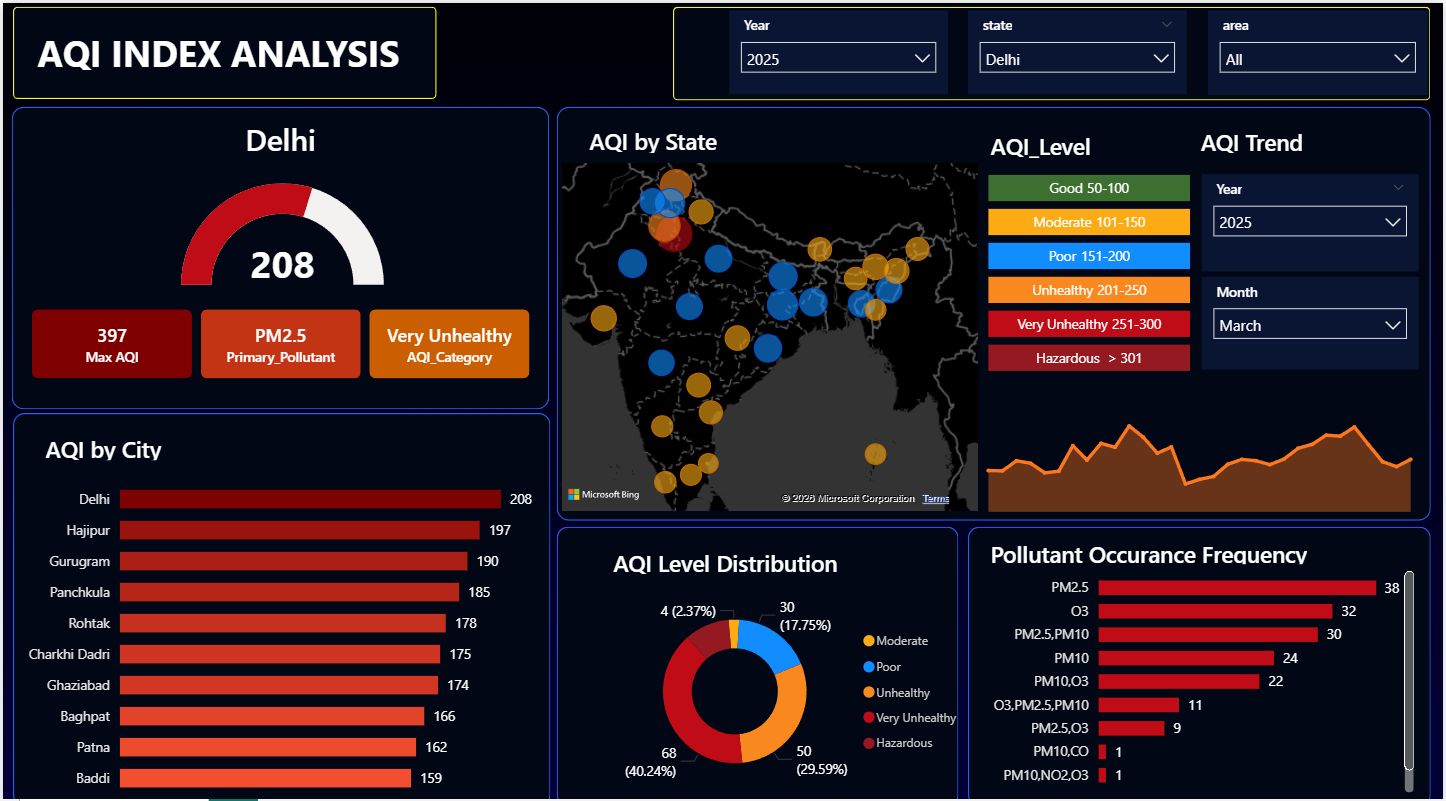

The page's visual inventory and layout, read from the dashboard file:
{"tool":"powerbi","page":{"name":"AQI INDEX PROJECT","canvas":[1280,720],"ordinal":0},"visuals":[{"type":"shape","box":[596,3.6,673.2,83.2],"z":0},{"type":"shape","box":[7.2,91.7,477.8,269],"z":1000},{"type":"slicer","fields":{"Values":["Calendar_Table.Year"]},"box":[645.3,7.2,194.2,74.8],"z":2000},{"type":"slicer","fields":{"Values":["day_wise_aqi_data.state"]},"box":[858.3,7.2,194.2,74.8],"z":3000},{"type":"slicer","fields":{"Values":["day_wise_aqi_data.area"]},"box":[1071.3,6.9,195,75],"z":4000},{"type":"gauge","fields":{"Y":["All_Measure.Avg_AQI"]},"box":[147.2,155.6,203.9,100.1],"z":5000},{"type":"cardVisual","fields":{"Data":["Max(day_wise_aqi_data.aqi_value)","All_Measure.Primary_Pollutant","All_Measure.AQI_Category_KPI"]},"box":[8.4,255.8,476.5,95.3],"z":6000},{"type":"cardVisual","fields":{"Data":["All_Measure.KPI-Title"]},"box":[181,90.5,131.5,59.1],"z":7000},{"type":"shape","box":[492.2,91.7,776.9,368],"z":8000},{"type":"map","fields":{"Category":["day_wise_aqi_data.state"],"Size":["All_Measure.Avg_AQI"]},"box":[492.2,137.5,378.8,318.5],"z":9000},{"type":"cardVisual","fields":{"Data":["All_Measure.State_Map_Title"]},"box":[492.2,92.9,182.2,57.9],"z":10000},{"type":"barChart","fields":{"Category":["day_wise_aqi_data.AQI_Category"],"Y":["All_Measure.Label"]},"box":[871.1,139.9,202.7,193],"z":11000},{"type":"cardVisual","fields":{"Data":["All_Measure.AQI_Level_Title"]},"box":[849.3,97.7,166.5,57.9],"z":12000},{"type":"areaChart","fields":{"Category":["Calendar_Table.Date.Variation.Date Hierarchy.Day"],"Y":["All_Measure.Avg_AQI"]},"box":[861.4,351.1,405.4,107.4],"z":13000},{"type":"slicer","fields":{"Values":["Calendar_Table.Date.Variation.Date Hierarchy.Year"]},"box":[1065,152.5,192.5,86.2],"z":14000},{"type":"slicer","fields":{"Values":["Calendar_Table.Date.Variation.Date Hierarchy.Month"]},"box":[1065,243.8,192.5,82.5],"z":15000},{"type":"cardVisual","fields":{"Data":["All_Measure.Title_For_Monthly_Charts"]},"box":[1035.1,92.3,165.6,59.4],"z":16000},{"type":"shape","box":[8.4,364.3,477.8,349.9],"z":17000},{"type":"barChart","fields":{"Category":["day_wise_aqi_data.area"],"Y":["All_Measure.Avg_AQI"]},"box":[10.9,409,466.9,305.2],"z":18000},{"type":"cardVisual","fields":{"Data":["All_Measure.Title_for_city"]},"box":[8.4,366.8,165.3,57.9],"z":19000},{"type":"shape","box":[492.2,465.7,357.1,248.5],"z":20000},{"type":"donutChart","fields":{"Category":["day_wise_aqi_data.AQI_Category"],"Y":["All_Measure.Count_Of_Rows"]},"box":[532.1,516.9,329.9,190.8],"z":21000},{"type":"cardVisual","fields":{"Data":["All_Measure.Donut_Title"]},"box":[513.1,462.6,269.2,69.5],"z":22000},{"type":"shape","box":[857.8,465.7,411.4,248.5],"z":23000},{"type":"clusteredBarChart","fields":{"Y":["All_Measure.Count_Of_Rows"],"Category":["day_wise_aqi_data.prominent_pollutants"]},"box":[861.4,492.2,398.1,214.7],"z":24000},{"type":"cardVisual","fields":{"Data":["All_Measure.Pollutant_Title"]},"box":[849.3,459.7,351.1,56.7],"z":25000},{"type":"shape","box":[8.4,3.6,376.4,82],"z":26000},{"type":"textbox","box":[25.3,18.1,381.2,54.3],"z":27000}]}

Visuals, with their boxes in screenshot pixels (x1, y1, x2, y2), scaled from the page's 1280x720 canvas onto the 1446x801 screenshot:
shape: select_region(673, 4, 1434, 97)
shape: select_region(8, 102, 548, 401)
slicer - Calendar_Table.Year: select_region(729, 8, 948, 91)
slicer - day_wise_aqi_data.state: select_region(970, 8, 1189, 91)
slicer - day_wise_aqi_data.area: select_region(1210, 8, 1431, 91)
gauge - All_Measure.Avg_AQI: select_region(166, 173, 397, 284)
cardVisual - Max(day_wise_aqi_data.aqi_value) x All_Measure.Primary_Pollutant: select_region(9, 285, 548, 391)
cardVisual - All_Measure.KPI-Title: select_region(204, 101, 353, 166)
shape: select_region(556, 102, 1434, 511)
map - day_wise_aqi_data.state x All_Measure.Avg_AQI: select_region(556, 153, 984, 507)
cardVisual - All_Measure.State_Map_Title: select_region(556, 103, 762, 168)
barChart - day_wise_aqi_data.AQI_Category x All_Measure.Label: select_region(984, 156, 1213, 370)
cardVisual - All_Measure.AQI_Level_Title: select_region(959, 109, 1148, 173)
areaChart - Calendar_Table.Date.Variation.Date Hierarchy.Day x All_Measure.Avg_AQI: select_region(973, 391, 1431, 510)
slicer - Calendar_Table.Date.Variation.Date Hierarchy.Year: select_region(1203, 170, 1421, 266)
slicer - Calendar_Table.Date.Variation.Date Hierarchy.Month: select_region(1203, 271, 1421, 363)
cardVisual - All_Measure.Title_For_Monthly_Charts: select_region(1169, 103, 1356, 169)
shape: select_region(9, 405, 549, 795)
barChart - day_wise_aqi_data.area x All_Measure.Avg_AQI: select_region(12, 455, 540, 795)
cardVisual - All_Measure.Title_for_city: select_region(9, 408, 196, 472)
shape: select_region(556, 518, 959, 795)
donutChart - day_wise_aqi_data.AQI_Category x All_Measure.Count_Of_Rows: select_region(601, 575, 974, 787)
cardVisual - All_Measure.Donut_Title: select_region(580, 515, 884, 592)
shape: select_region(969, 518, 1434, 795)
clusteredBarChart - All_Measure.Count_Of_Rows x day_wise_aqi_data.prominent_pollutants: select_region(973, 548, 1423, 786)
cardVisual - All_Measure.Pollutant_Title: select_region(959, 511, 1356, 574)
shape: select_region(9, 4, 435, 95)
textbox: select_region(29, 20, 459, 81)
